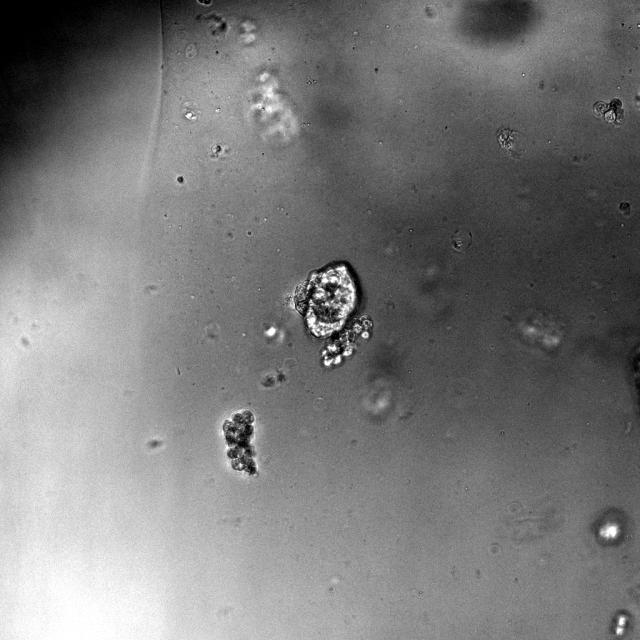organoid: (293, 262, 372, 366), (249, 70, 299, 142), (222, 410, 257, 475), (259, 358, 297, 388), (496, 128, 526, 157), (592, 98, 623, 124)
